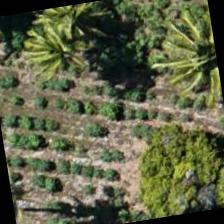Kelapa_Sawit: (28, 0, 128, 76), (160, 11, 224, 108)
